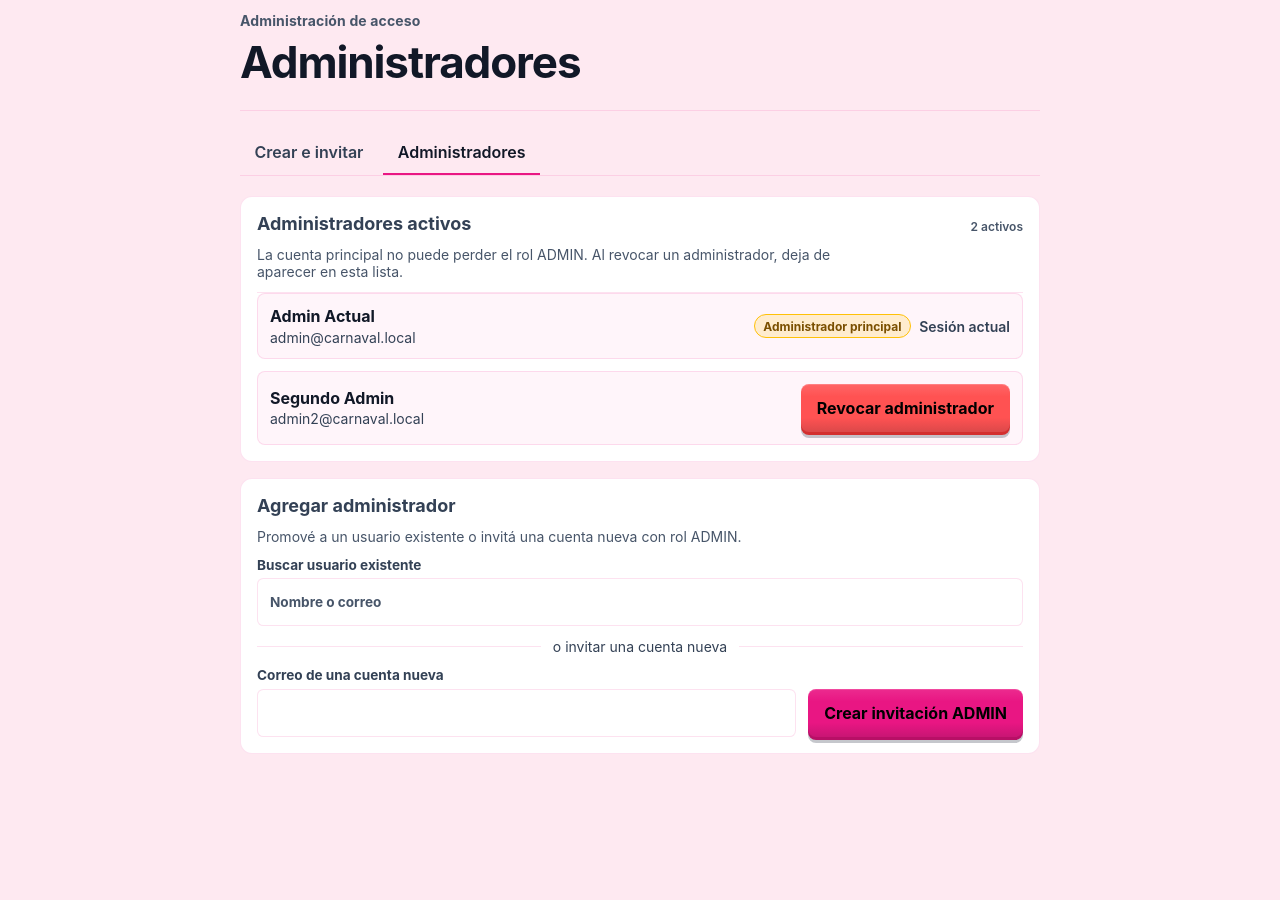
Test: AdminUsersPage › al revocar, el usuario sale de la lista de administradores
Click the button "Revocar administrador". click: [905, 408]
box: [801,384,1010,432]
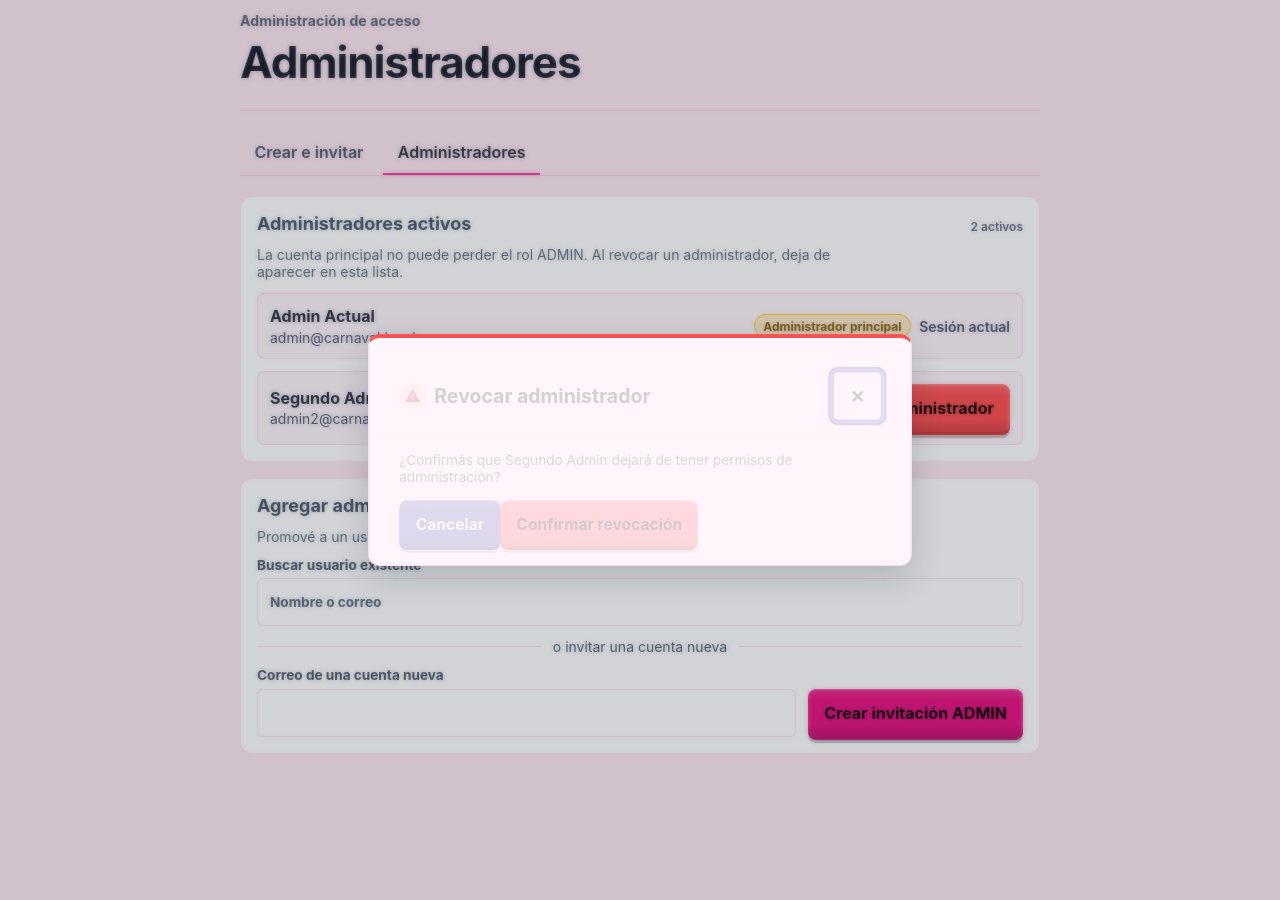
expect the dialog "Revocar administrador" is shown: met, box [368,334,912,566]
expect the text "¿Confirmás que Segundo Admin dejará de tener permisos" is shown: met, box [399,452,793,485]
Click the button "Confirmar revocación". click: [599, 524]
box: [501,500,698,547]
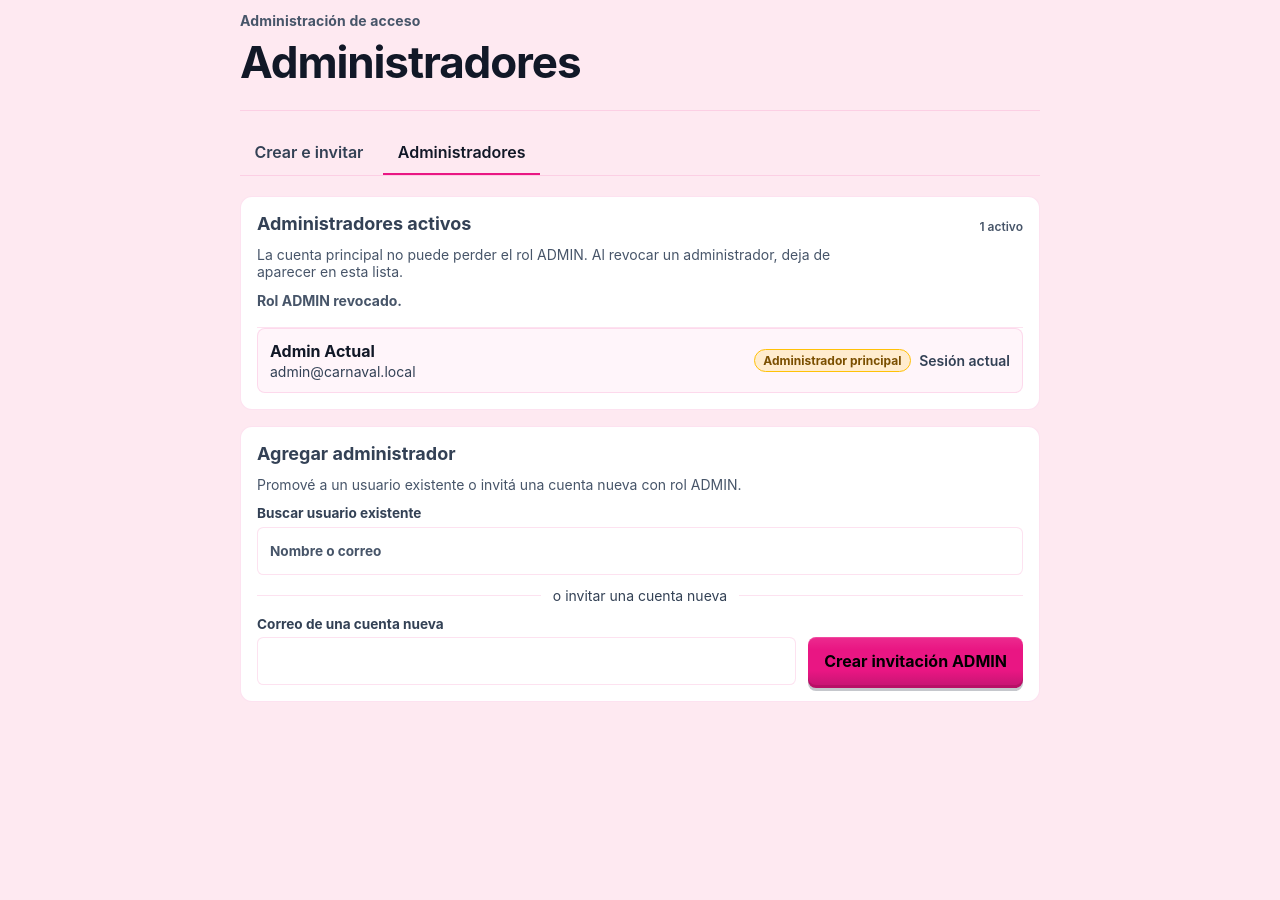
expect the text "Rol ADMIN revocado." is shown: met, box [257,292,402,309]
expect the text "1 activo" is shown: met, box [980,219,1023,234]
expect the text "Segundo Admin" is gone: met
